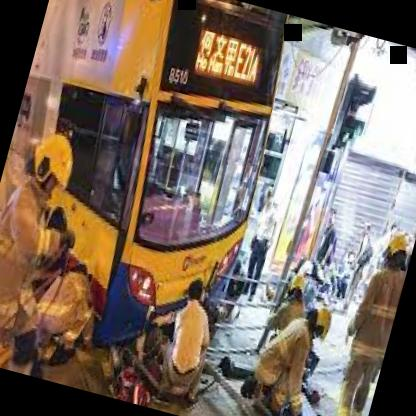accident: (64, 43, 379, 416)
